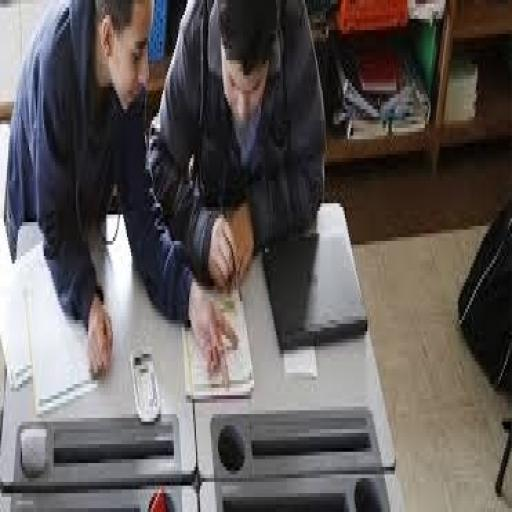sitting: (3, 0, 328, 380), (146, 0, 327, 294)
